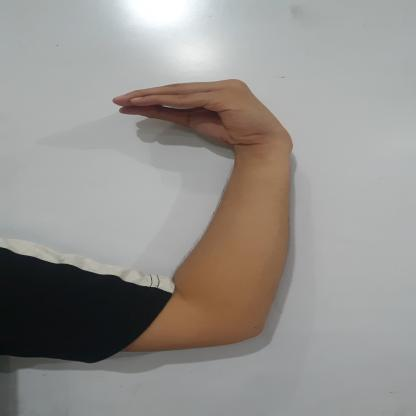Malam: (101, 74, 316, 175)
